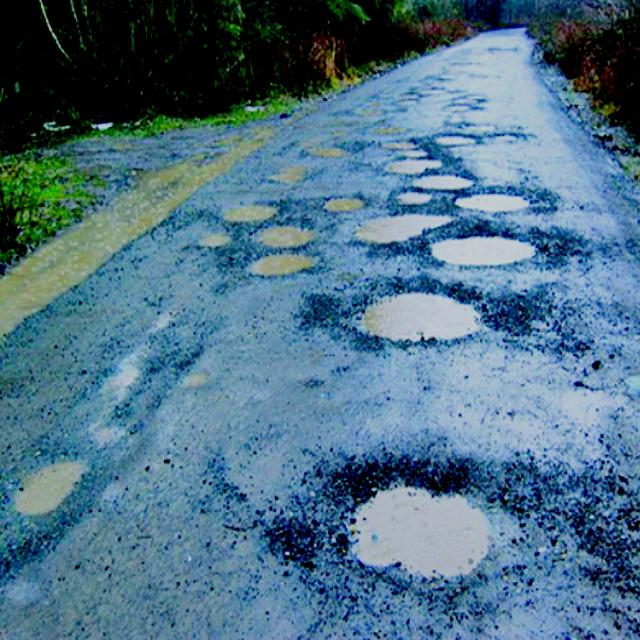Pothole: (212, 125, 564, 343), (281, 444, 640, 639)
